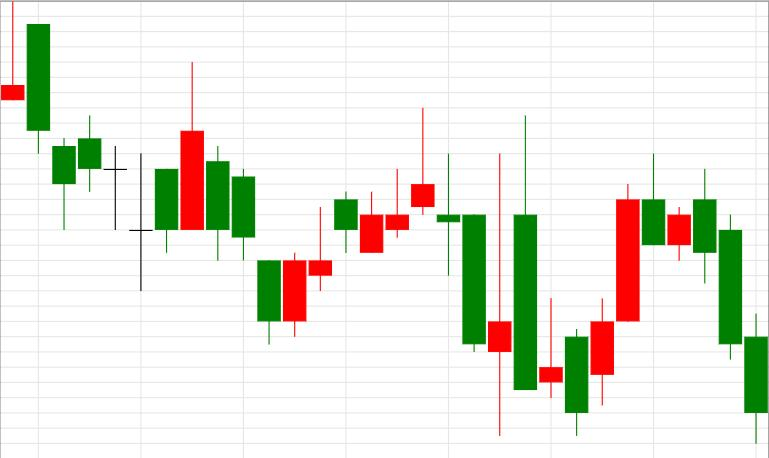shooting_star_fall: (282, 107, 435, 338)
